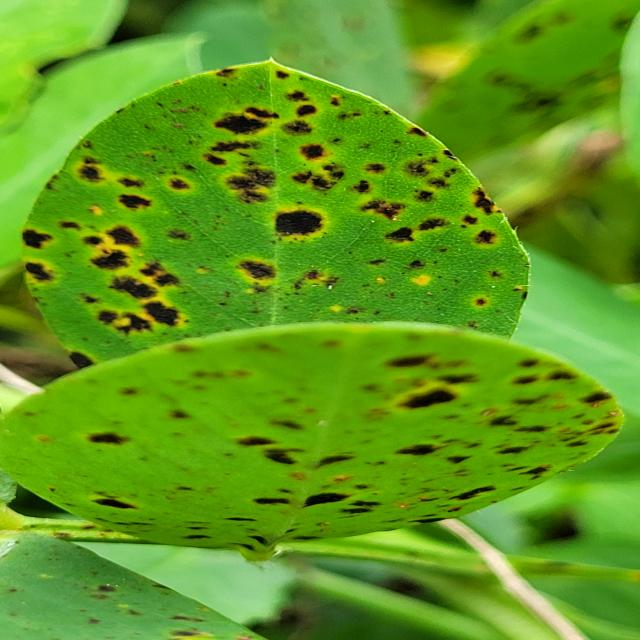Ground nut_tikka leaf spot: (23, 56, 535, 424)
